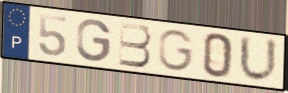0: (200, 31, 235, 79)
5: (37, 12, 69, 58)
B: (118, 21, 154, 69)
G: (75, 18, 114, 64), (157, 28, 196, 73)
U: (237, 33, 280, 85)
